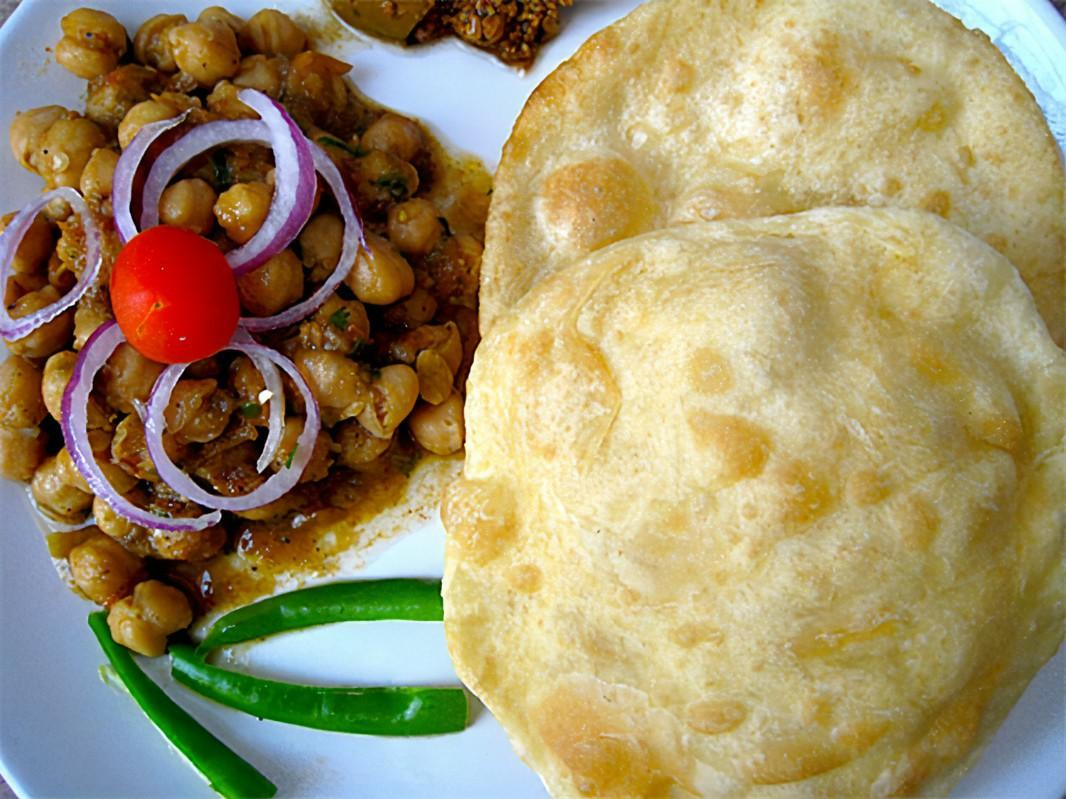Bhatura: (444, 0, 1066, 799)
Chole: (15, 4, 430, 598)
